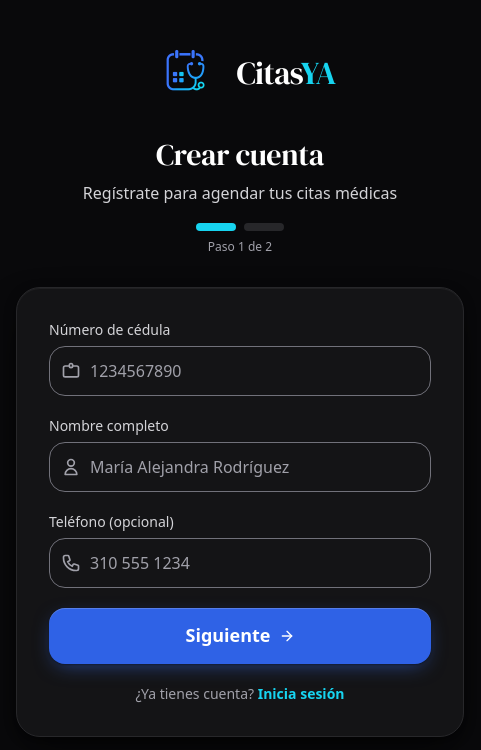
it: RegisterPage: mensaje después del registro (H-51) › si el correo debe confirmarse, lo pide y lleva a iniciar sesión
The width and height of the screenshot is (481, 750).
In the field labelled "Número de cédula": (240, 371) x1=49 y1=346 x2=431 y2=396, type "52123456"
In the field labelled "Nombre completo": (240, 467) x1=49 y1=442 x2=431 y2=492, type "Rosa Prueba Sintética"
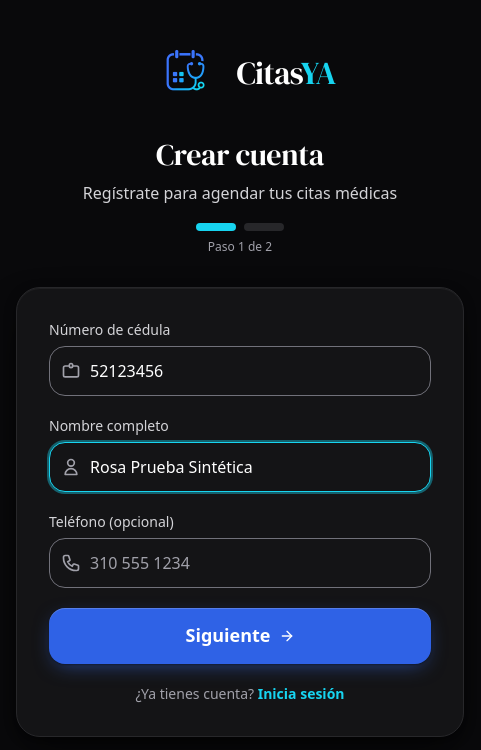
Click the button "Siguiente": (240, 636) x1=49 y1=608 x2=431 y2=664
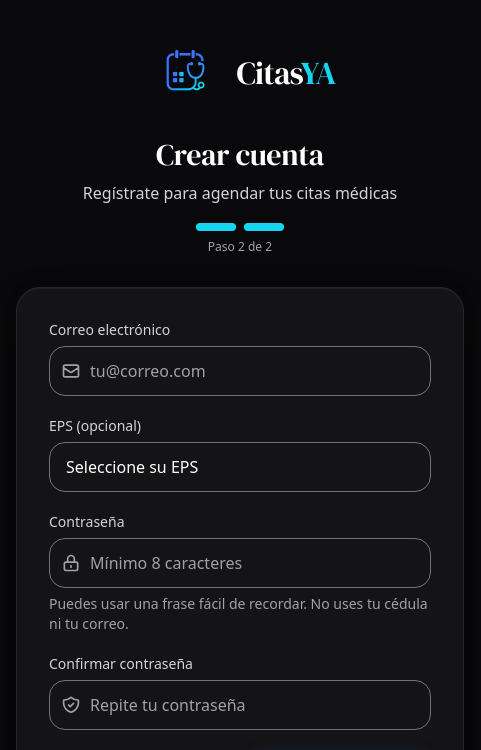
In the field labelled "Correo electrónico": (240, 371) x1=49 y1=346 x2=431 y2=396, type "usuaria.prueba@ejemplo.test"
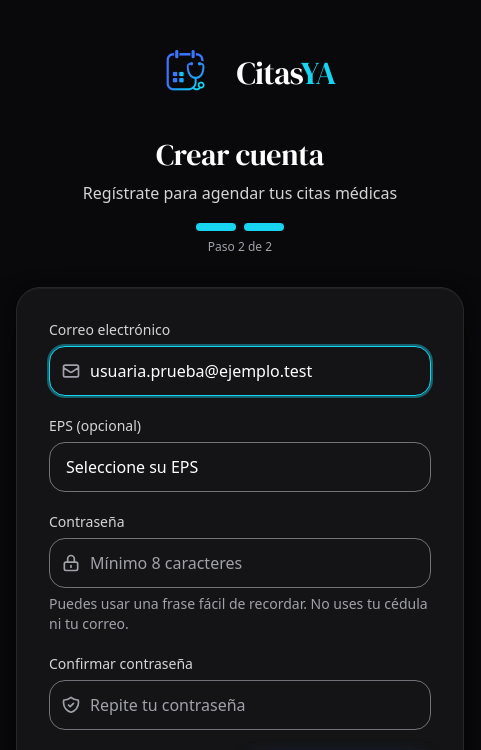
In the password field labelled "Contraseña": (240, 563) x1=49 y1=538 x2=431 y2=588, type "mi jardín tiene tres rosas"
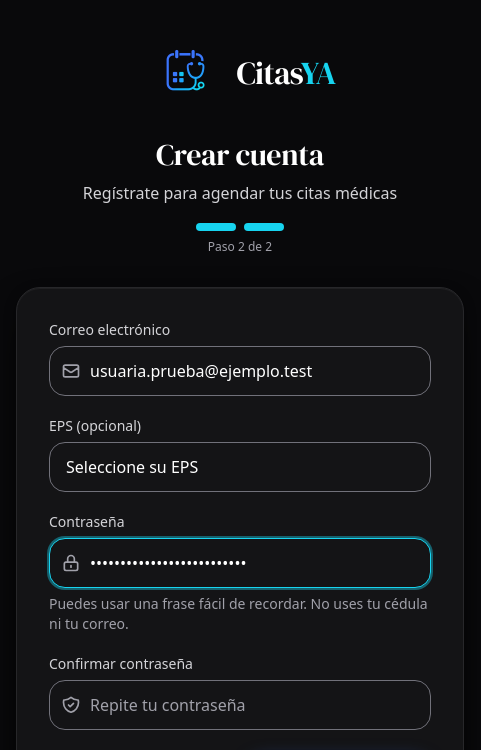
In the password field labelled "Confirmar contraseña": (240, 705) x1=49 y1=680 x2=431 y2=730, type "mi jardín tiene tres rosas"
(page scrolled)
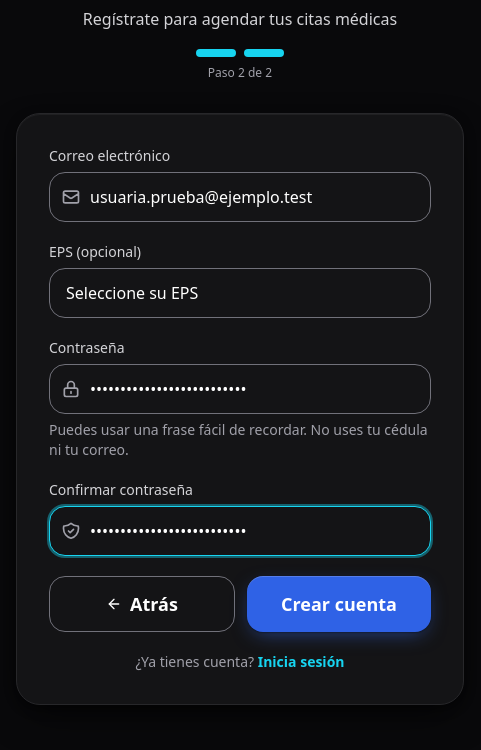
Click the button "Crear cuenta": (339, 604) x1=247 y1=576 x2=431 y2=632
(page scrolled)
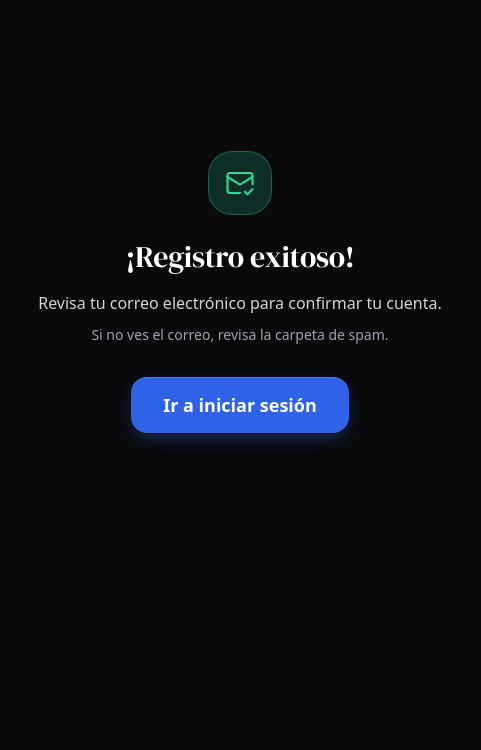
Result: the heading "¡Registro exitoso!" is shown at x1=126 y1=236 x2=354 y2=277
Result: the text "Revisa tu correo electrónico para confirmar tu cuenta." is shown at x1=16 y1=291 x2=464 y2=317
